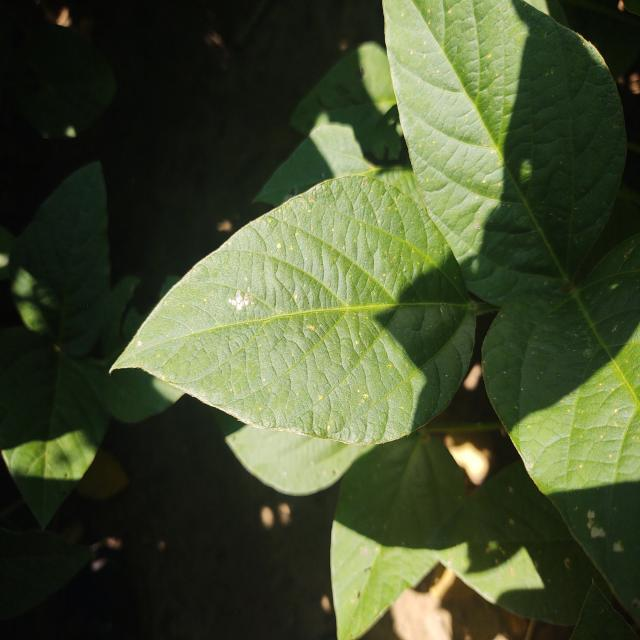Soybean: (0, 0, 640, 640)
downey_mildew: (222, 288, 258, 320), (260, 505, 276, 530), (561, 279, 577, 294), (624, 248, 634, 260), (52, 343, 62, 355), (235, 290, 243, 304), (354, 589, 361, 599), (307, 324, 315, 332), (583, 349, 591, 357), (293, 293, 299, 302), (276, 242, 282, 249), (363, 392, 369, 399), (137, 340, 142, 347)
